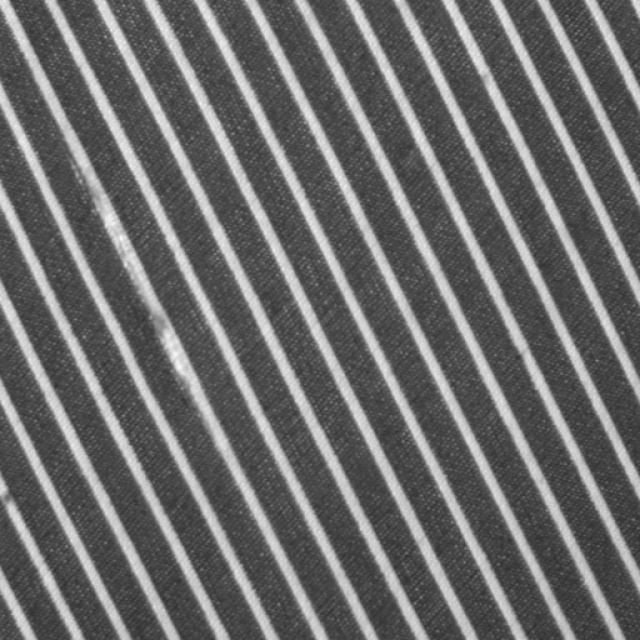Thread-Defect: (60, 115, 212, 419)
